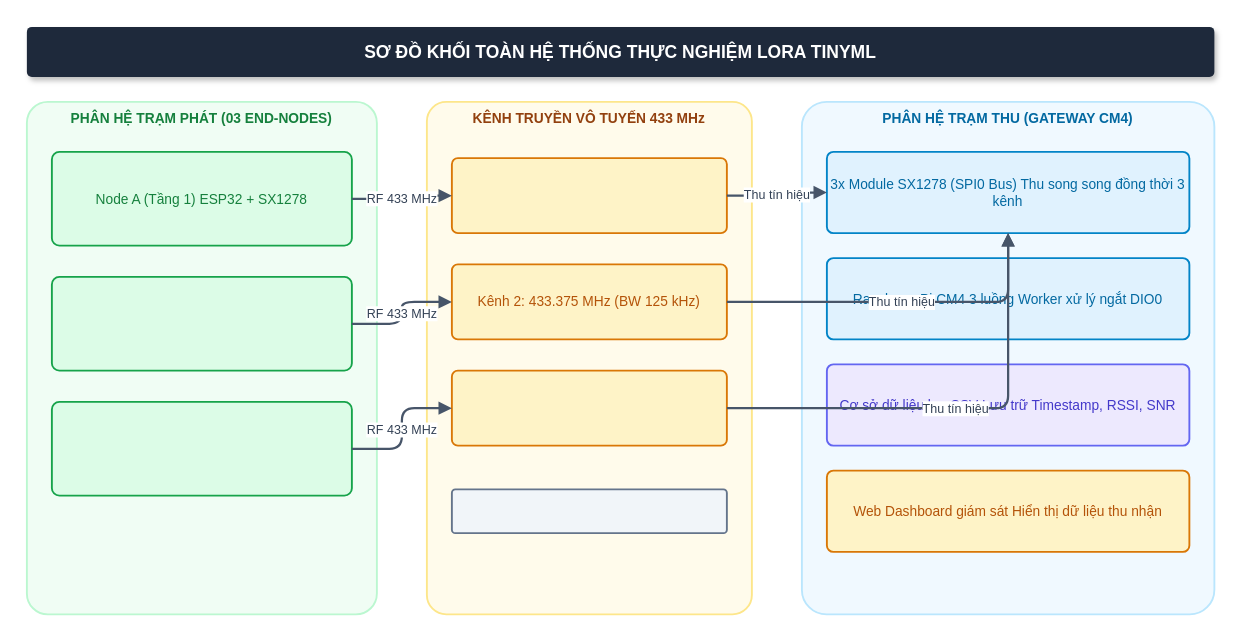
Some shapes in this 1243 by 636 pixel diagram are drawn without their labels. Each missing label, with the centre of its shape:
"Khoảng cách kênh: 200 kHz" goes at (x=588, y=511).
"Kênh 1: 433.175 MHz (BW 125 kHz)" goes at (x=588, y=195).
"Kênh 3: 433.575 MHz (BW 125 kHz)" goes at (x=588, y=407).
"Node B (Tầng 2) ESP32 + SX1278" goes at (x=201, y=323).
"Node C (Ngoài trời) ESP32 + SX1278" goes at (x=201, y=448).
